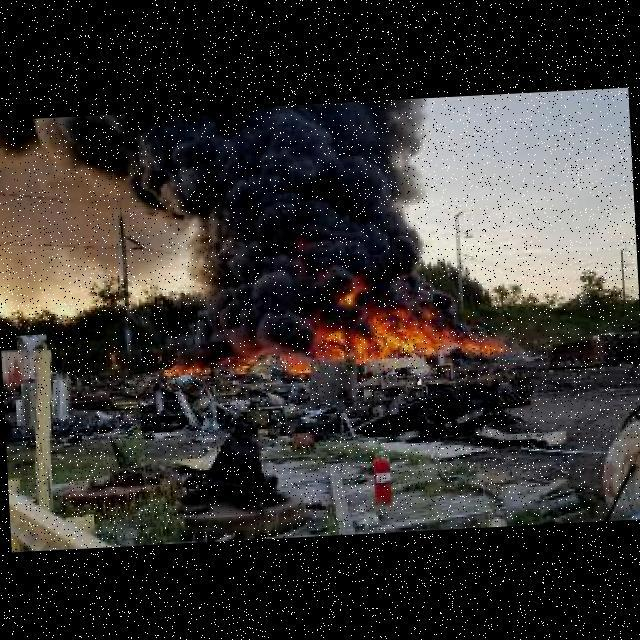Fire: (140, 294, 517, 385), (326, 272, 372, 310), (109, 353, 120, 366)
Smoke: (91, 92, 464, 322)
